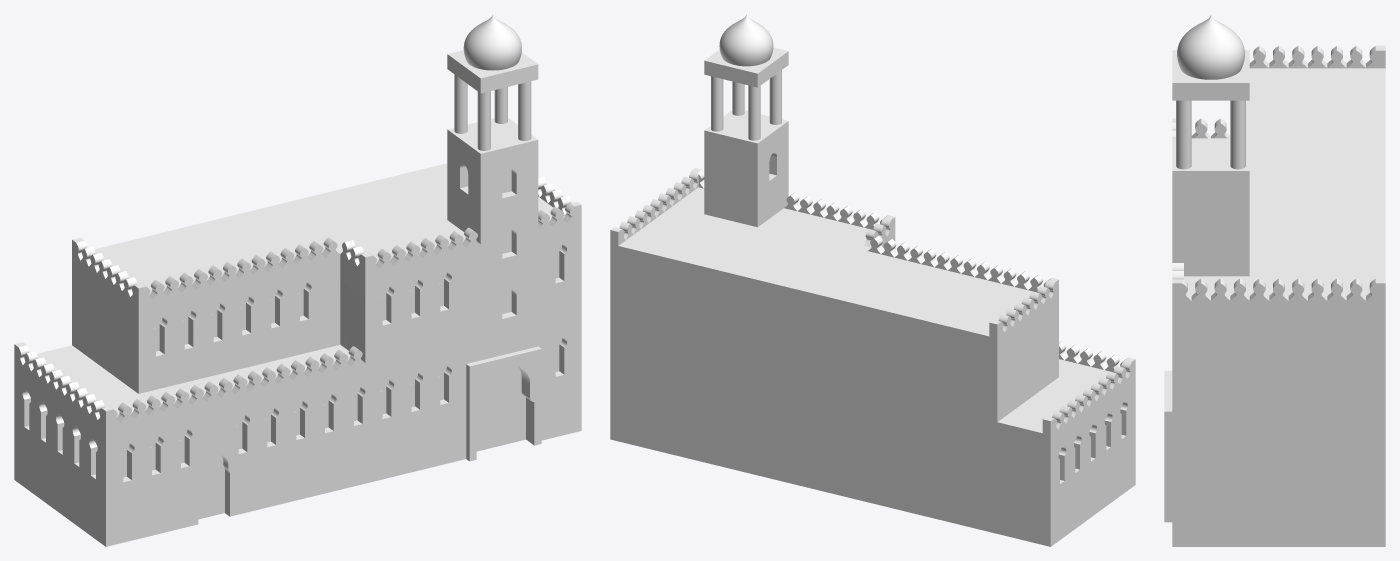
File: building_2.gltf
3 views of the same model, side by side, from view 1: azimuth 30°, elevation 25°; view 2: azimuth 150°, elevation 25°; view 3: azimuth 270°, elevation 25° (orthographic). The views are drawn at different scales.
Visible parts, largest first — view 1: building_2; view 2: building_2; view 3: building_2.
Boxes of the visible parts, x1,y1,x2,y2 form: building_2: [14, 15, 581, 546]; building_2: [610, 14, 1135, 546]; building_2: [1164, 15, 1385, 546].
Size of the model in its own units: 16.5 by 14 by 5.7.
Materials: 1 (1 with a texture image).
